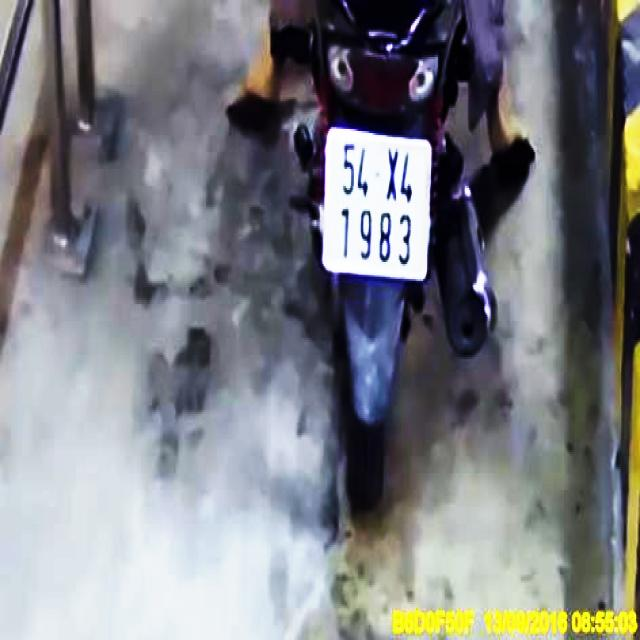license_plate: (324, 131, 436, 282)
